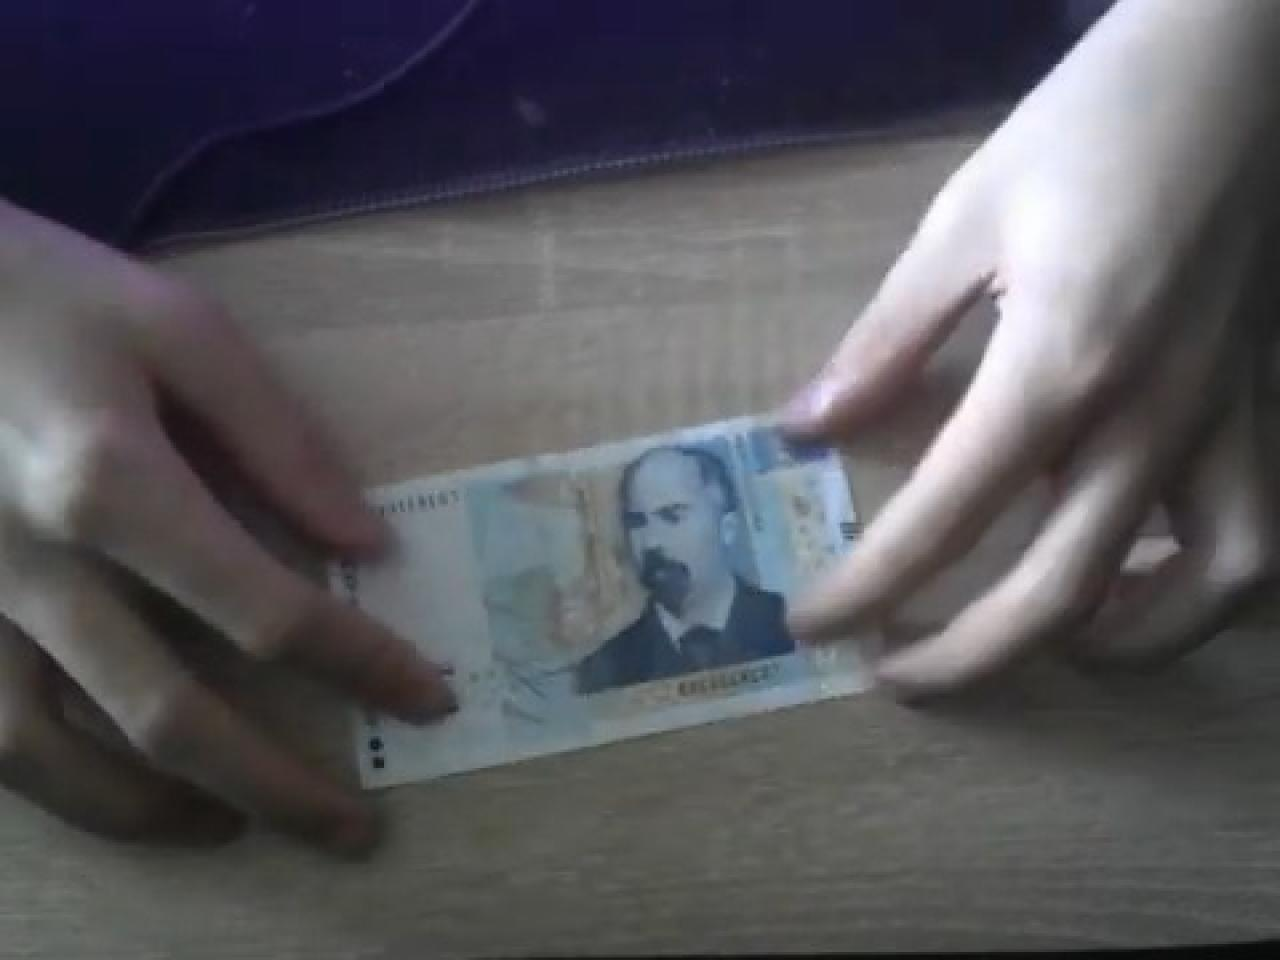20leva: (567, 441, 797, 699)
